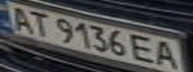1: (69, 20, 90, 48)
3: (87, 24, 109, 53)
6: (106, 28, 130, 57)
9: (48, 15, 75, 44)
A: (3, 2, 36, 34), (151, 38, 184, 70)
E: (127, 34, 160, 64)
T: (24, 8, 54, 37)
